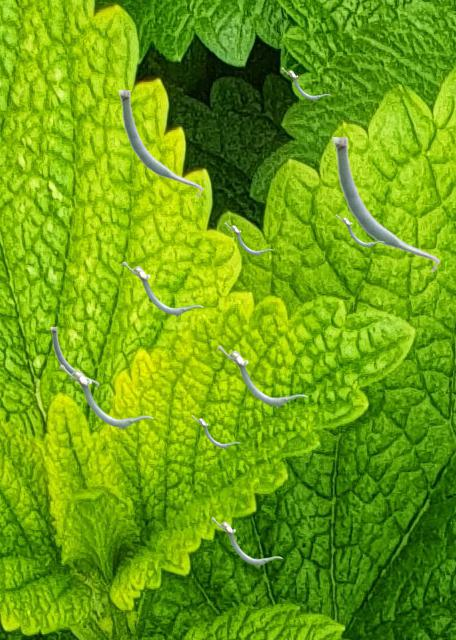french_bean: (332, 137, 439, 272), (118, 90, 202, 197), (59, 364, 152, 429), (217, 345, 306, 407), (122, 261, 202, 316), (211, 517, 281, 566), (50, 327, 98, 388), (224, 222, 272, 255), (191, 415, 239, 448), (281, 67, 329, 100), (335, 214, 383, 247)
